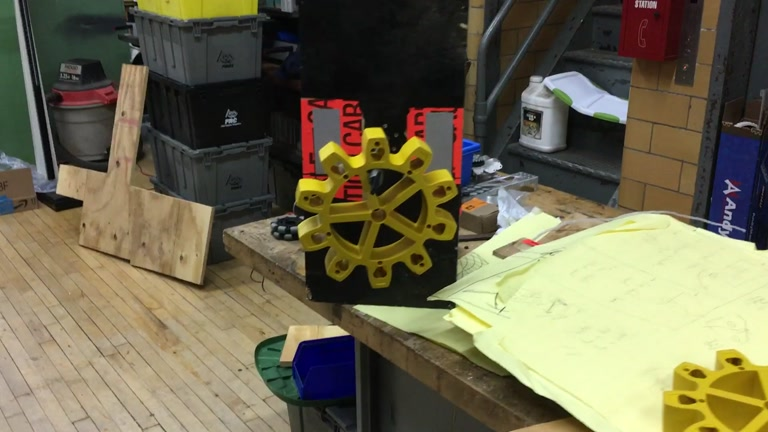gear: (294, 126, 460, 289), (660, 349, 767, 432)
